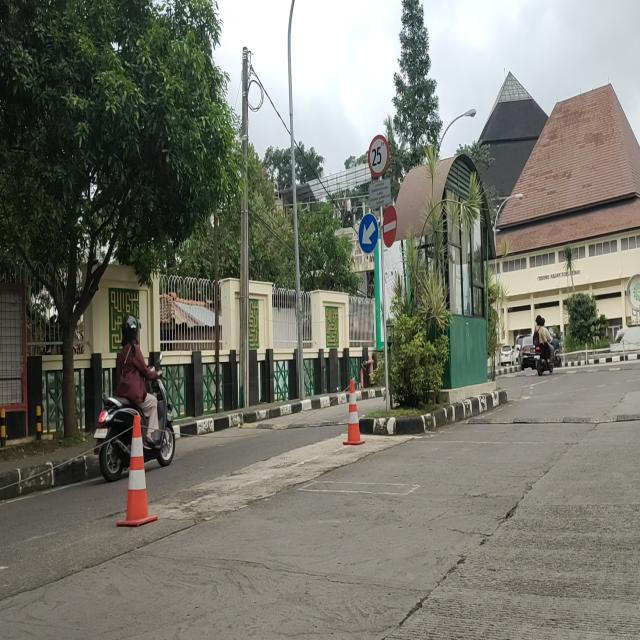helmet: (124, 314, 140, 342)
